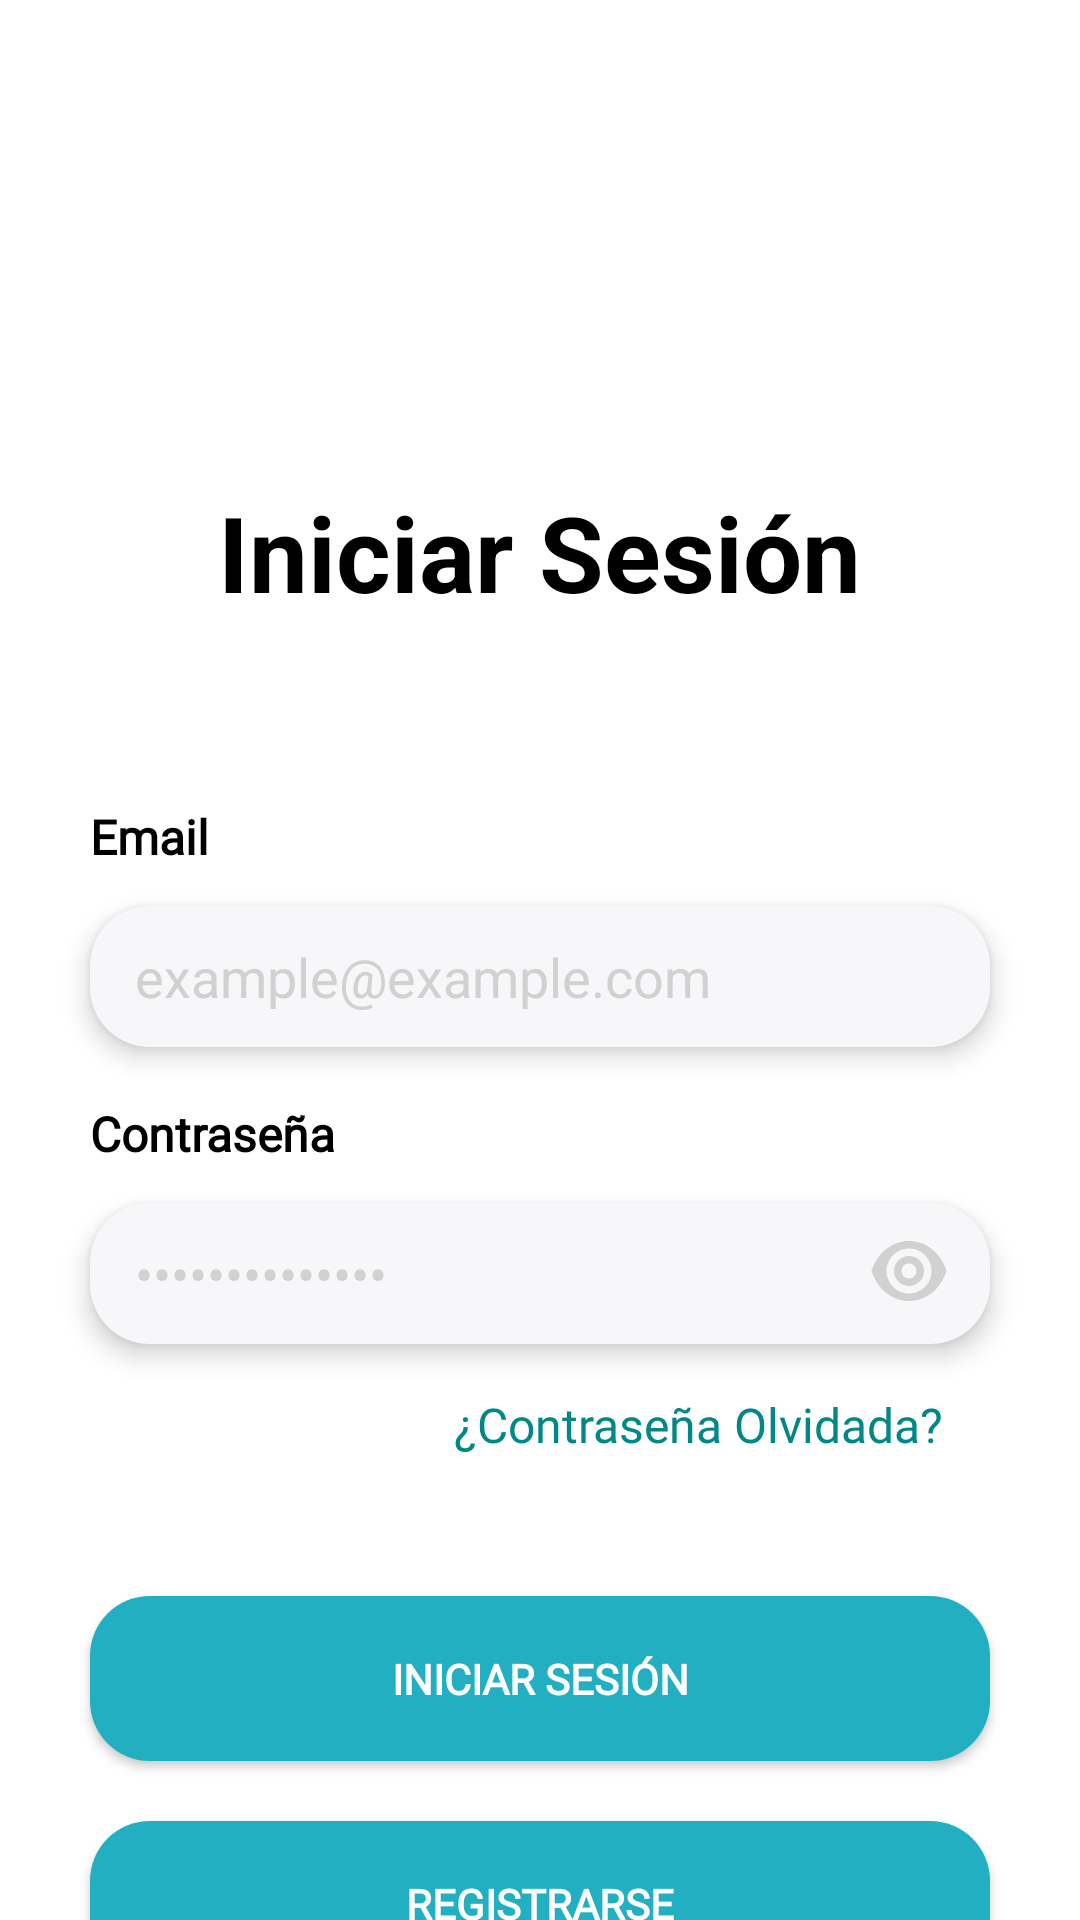

Locate icon controls on the screen. Image size 1080 × 1920, boxes as (x1, y1, x2, y2).
ojo: (872, 1241, 946, 1301)
